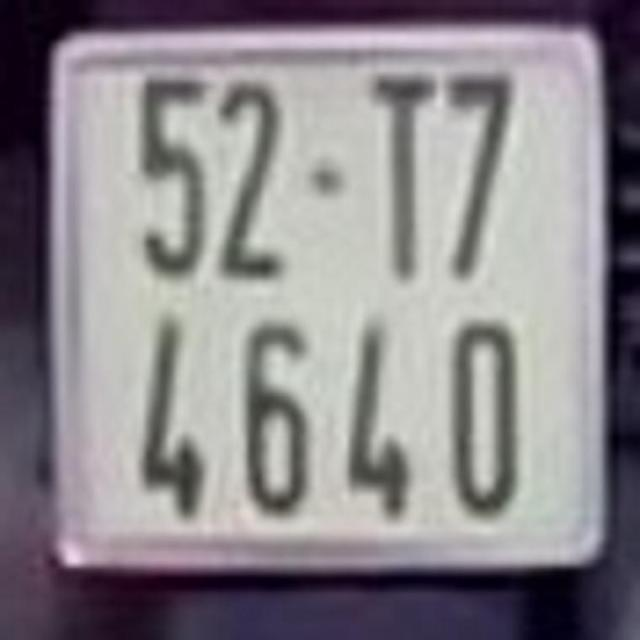0: (443, 306, 525, 520)
2: (215, 72, 288, 282)
4: (139, 305, 212, 522), (343, 307, 417, 520)
5: (133, 69, 211, 282)
6: (234, 306, 313, 517)
7: (444, 62, 519, 287)
T: (364, 61, 439, 288)
